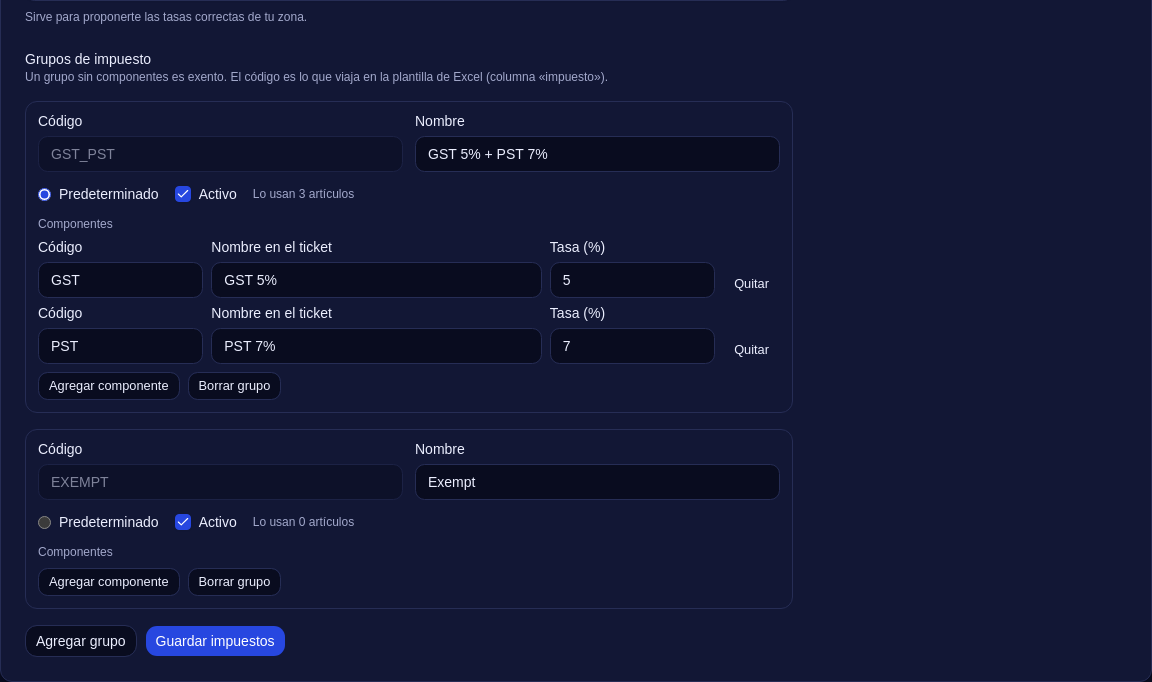
«Impuestos» en Mi perfil (F4-TAX-14) › borrar un grupo en uso: el 409 del API se explica en pantalla
The image size is (1152, 682).
(page scrolled)
Check: the number of elements with test id "tax-group" is 2, box [25,101,793,413]; [25,429,793,609]
Step 1. Click the button "Borrar grupo" below "Lo usan 3 artículos" → (234, 386), box [188,372,281,400]
(page scrolled)
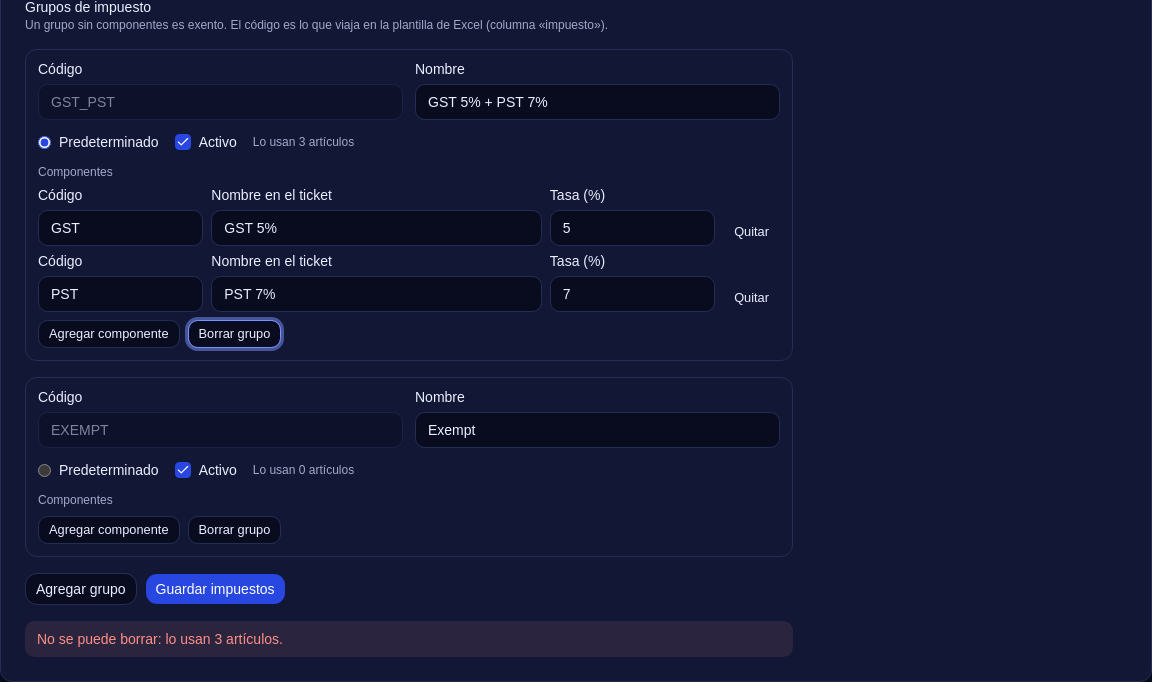
Check: the message shows "lo usan 3 artículos", box [37,631,283,647]
